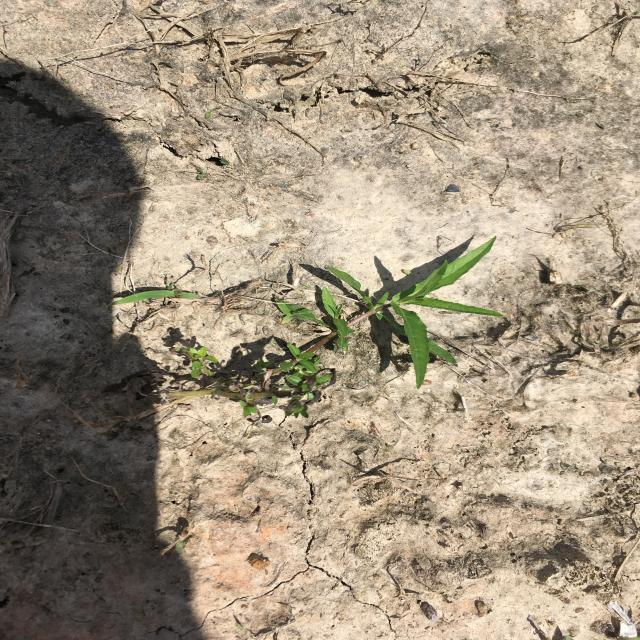Eclipta: (174, 235, 505, 417)
